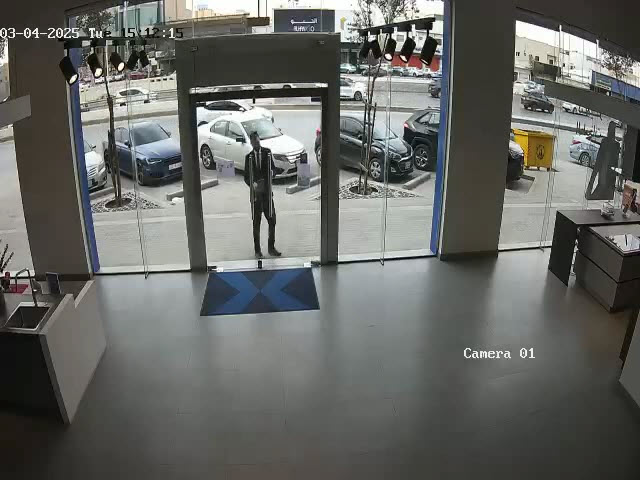employee: (244, 131, 283, 259)
other: (578, 104, 627, 210)
